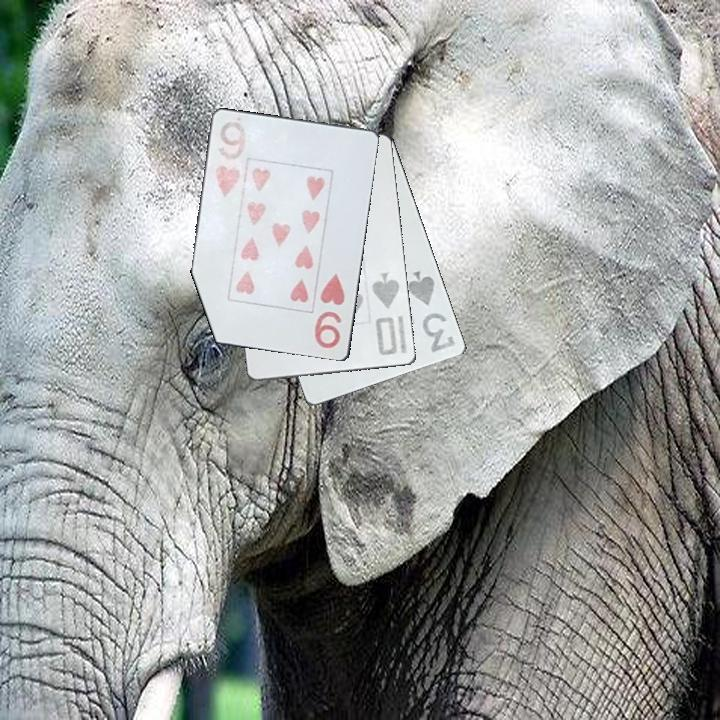3s: (404, 267, 459, 356)
9h: (210, 115, 250, 201), (311, 269, 348, 352)
Ts: (369, 270, 403, 359)
